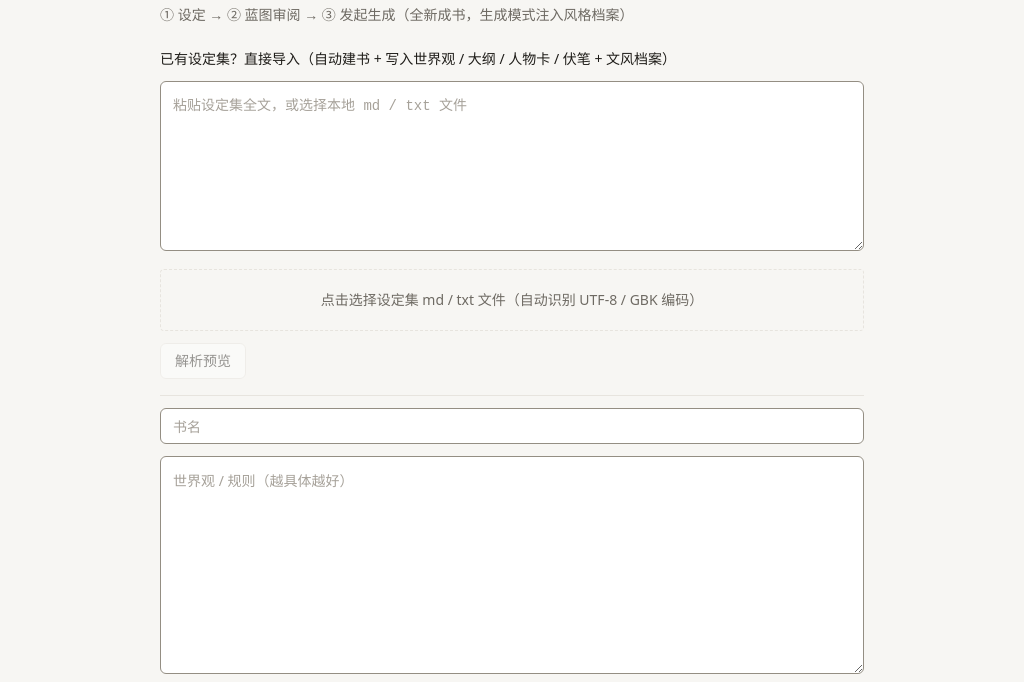
Test: NewBookIdeaPage 入口 B 向导 › 设定集导入（无章级大纲）→ 按章节数走建议蓝图（设定已入库）
In the text box labelled "设定集全文": (512, 166) [160, 81, 864, 251], type "# 《导入示例书》设定集"
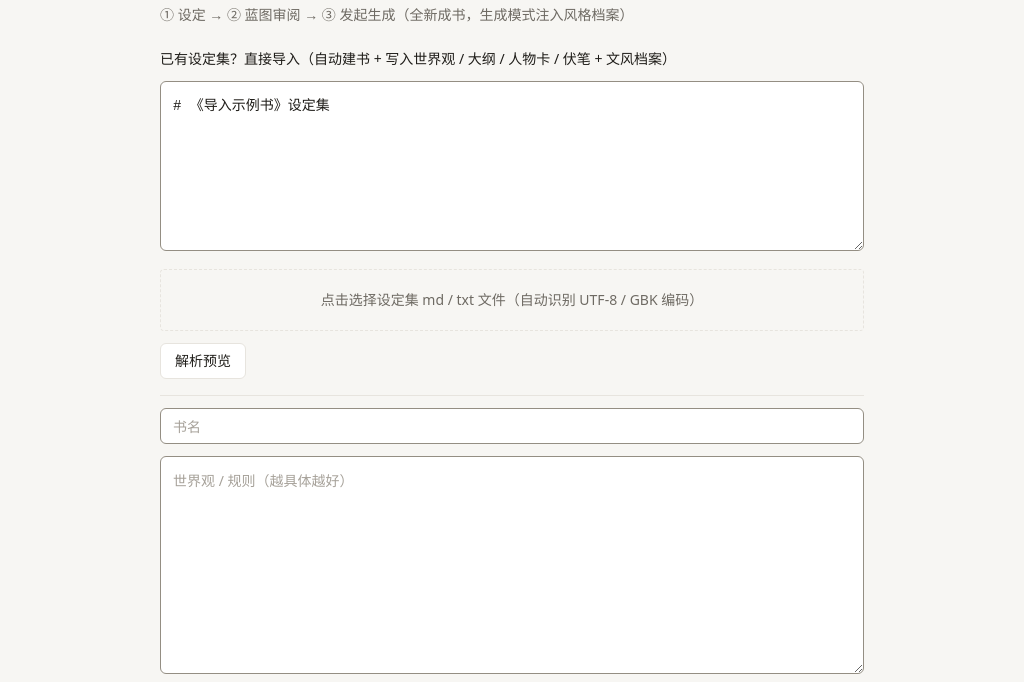
Click the button "解析预览": click(203, 361) [160, 343, 246, 379]
(page scrolled)
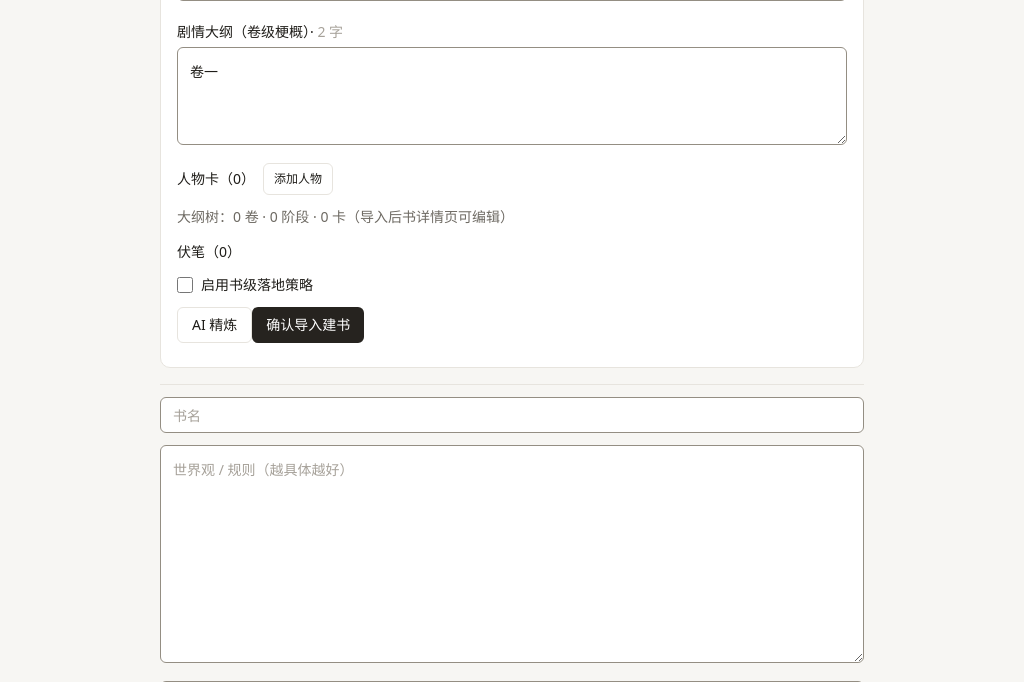
Expected: the button "确认导入建书" is shown
Click the button "确认导入建书": click(308, 325) [252, 307, 364, 343]
(page scrolled)
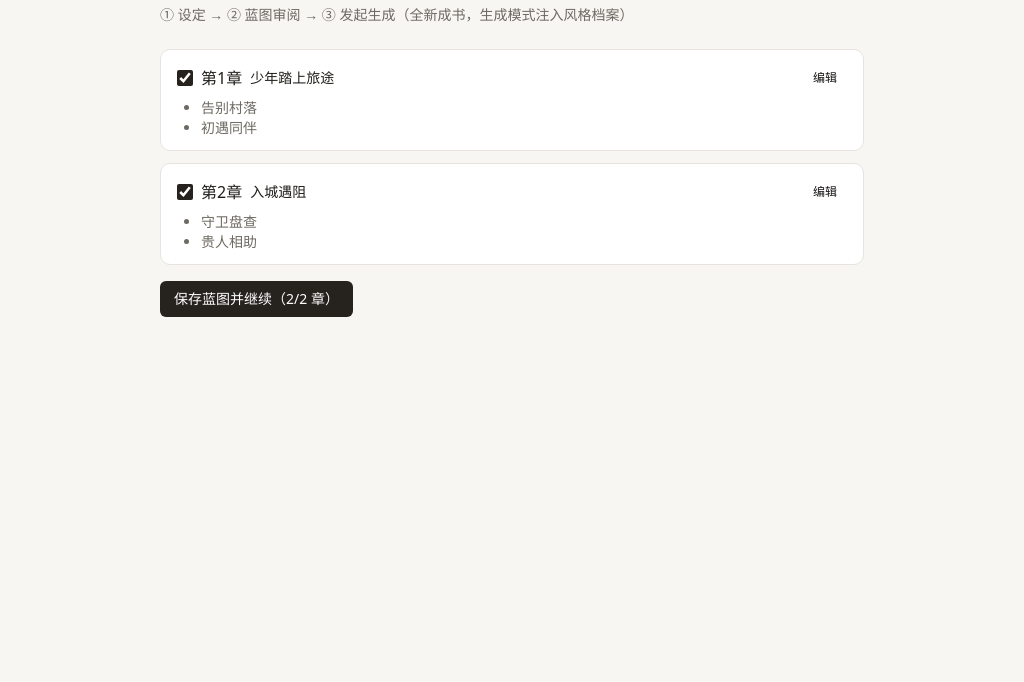
Expected: the text "少年踏上旅途" is shown, [250, 68, 334, 88]
